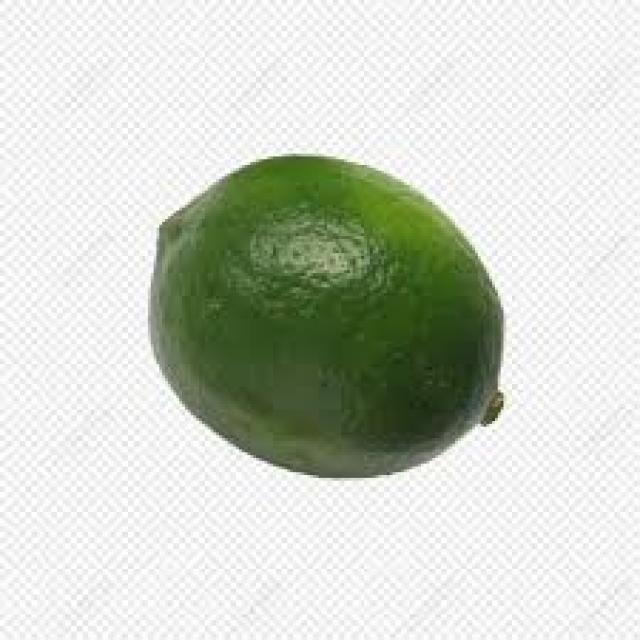Unripe: (147, 150, 509, 480)
